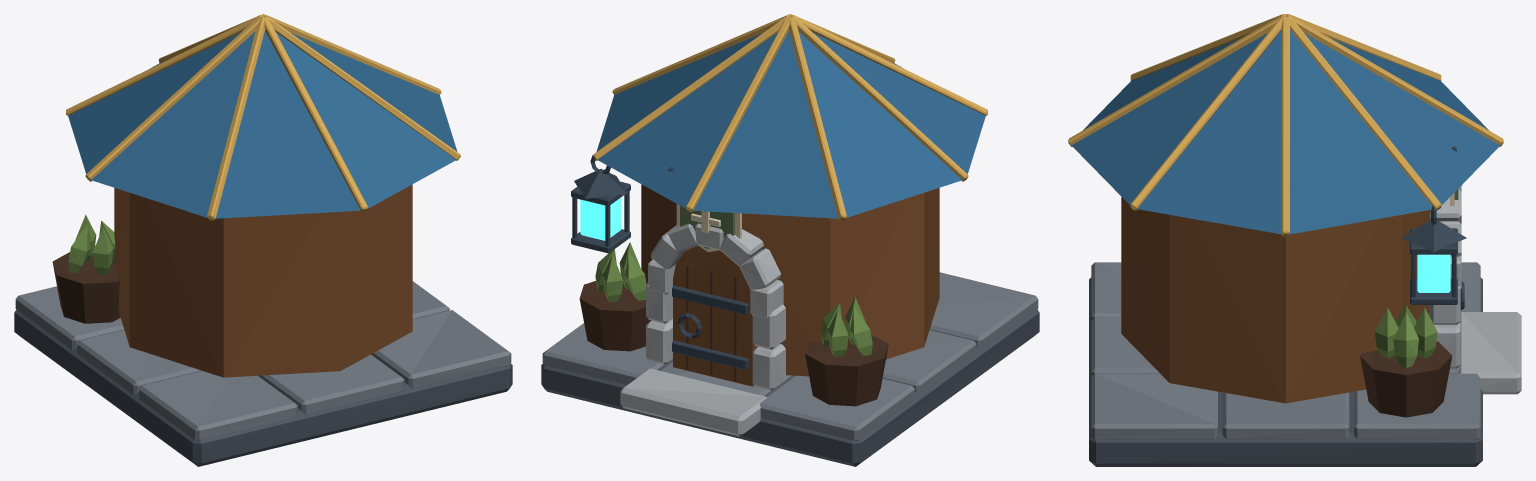
File: building_healing_hut.glb
3 views of the same model, side by side, from view 1: azimuth 30°, elevation 25°; view 2: azimuth 150°, elevation 25°; view 3: azimuth 270°, elevation 25° (orthographic). The views are drawn at different scales.
Parts seen in each view (by area): view 1: body; view 2: body; view 3: body.
Boxes of the visible parts, <box> form: body: <box>14,14,512,466</box>; body: <box>541,14,1039,466</box>; body: <box>1068,14,1521,466</box>.
Size of the model in its own units: 2.36 by 2.22 by 2.45.
